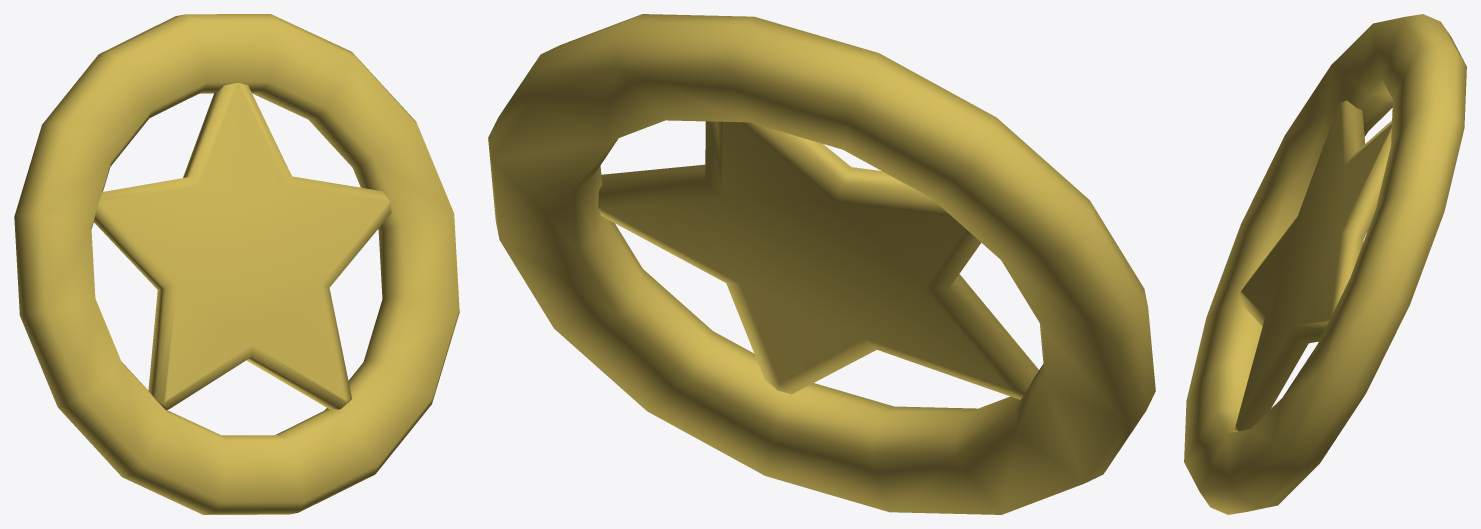
The model's file is aa-other-sheriff-star.glb.
3 renders of one model, left to right at view 1: azimuth 30°, elevation 25°; view 2: azimuth 150°, elevation 25°; view 3: azimuth 270°, elevation 25°, orthographic. The views are drawn at different scales.
Parts seen in each view (by area): view 1: acessoiresSheriffStar; view 2: acessoiresSheriffStar; view 3: acessoiresSheriffStar.
Boxes of the visible parts, x1,y1,x2,y2 form: acessoiresSheriffStar: [14, 14, 459, 514]; acessoiresSheriffStar: [488, 14, 1155, 514]; acessoiresSheriffStar: [1184, 14, 1466, 514].
Bounding box in the file's own units: 0.1136 × 0.1031 × 0.0598.
Materials: 1 (1 with a texture image).
